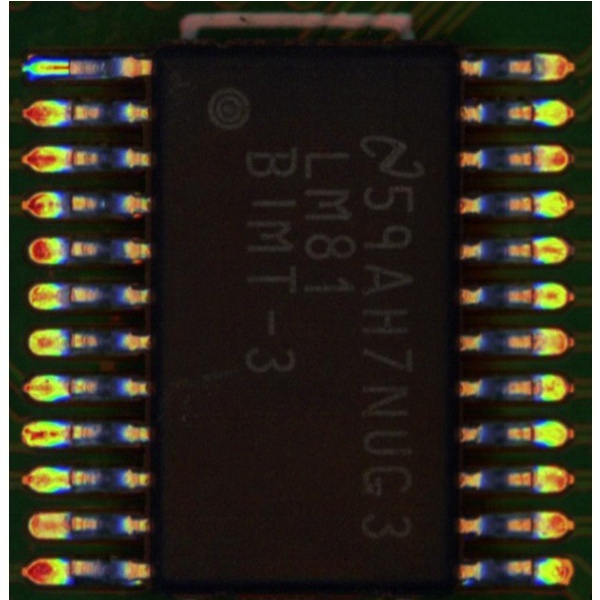Bad_podu: (49, 425, 79, 440), (56, 472, 86, 485), (521, 243, 546, 258), (523, 150, 545, 167), (57, 517, 88, 528), (526, 379, 547, 395), (523, 287, 544, 303), (527, 334, 545, 351), (55, 60, 76, 72)
